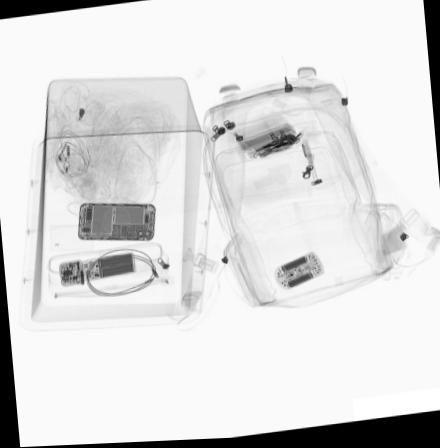Powerbank: (54, 250, 136, 289)
